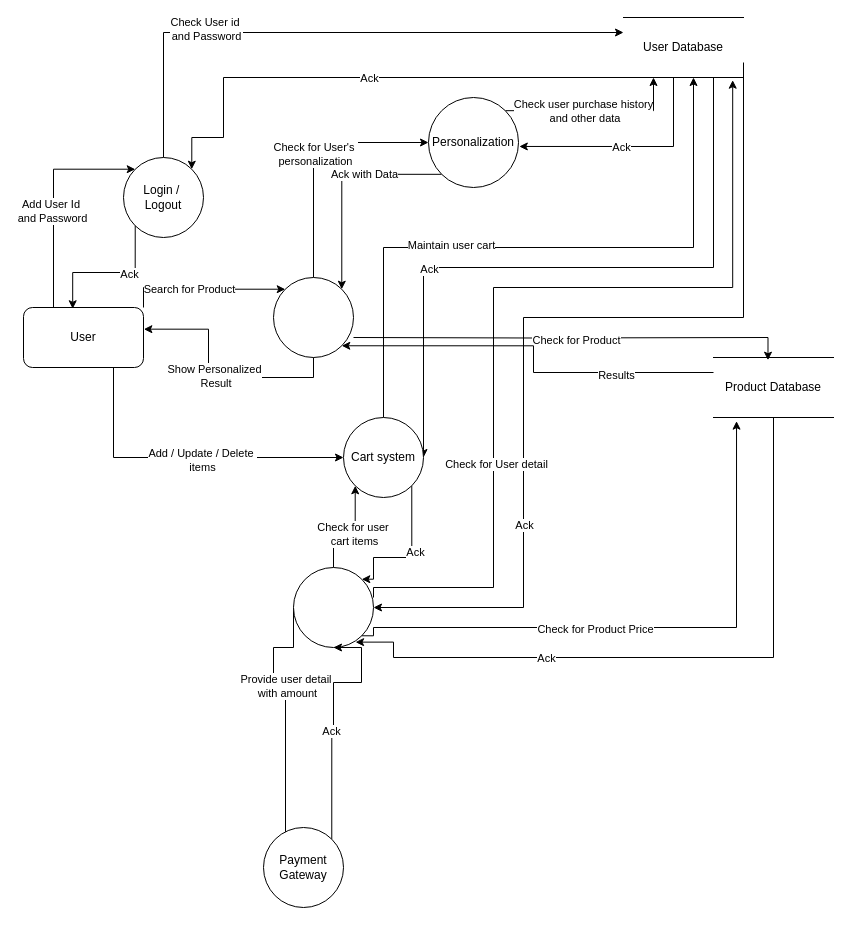
Image size: 851x925. Some labels were removed from this diagram. Each missing label, with the centre of its shape:
"Payment System" belongs at (x=333, y=607).
"Search System" belongs at (x=313, y=317).
